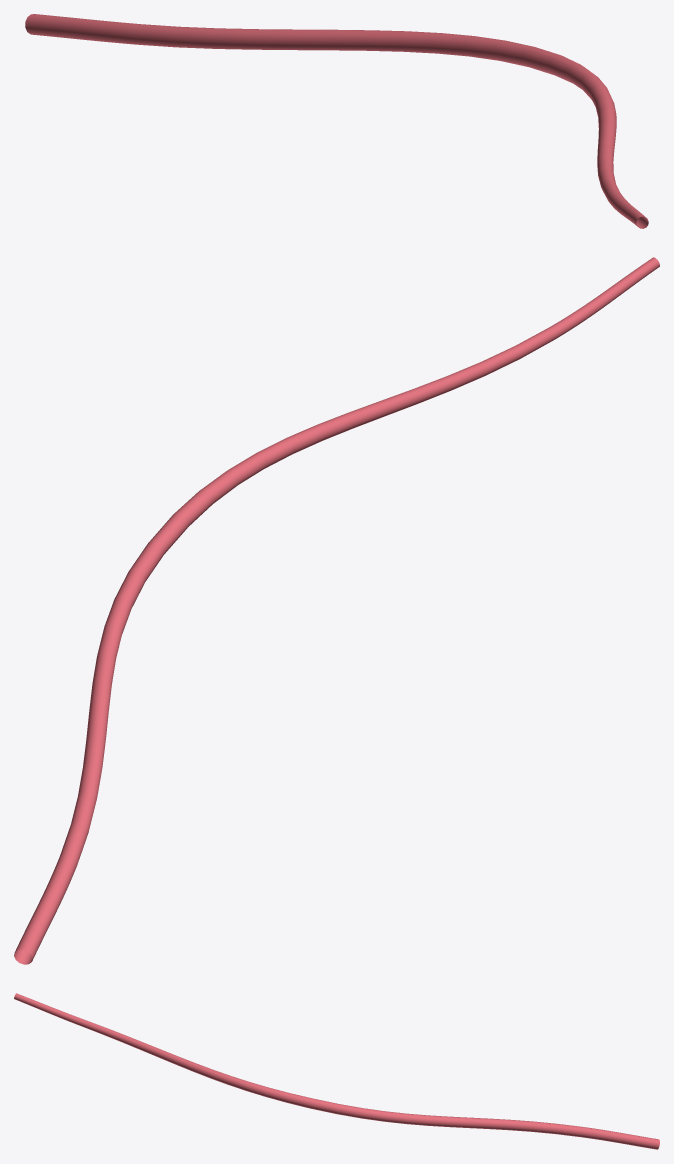
The picture shows the model from 3 angles, top to bottom: view 1: azimuth 30°, elevation 25°; view 2: azimuth 150°, elevation 25°; view 3: azimuth 270°, elevation 25°; orthographic projection. The views are drawn at different scales.
Parts seen in each view (by area): view 1: ZA_f6cd02605fea6eed; view 2: ZA_f6cd02605fea6eed; view 3: ZA_f6cd02605fea6eed.
Part boxes in pixels (<box>): ZA_f6cd02605fea6eed: <box>25,14,648,228</box>; ZA_f6cd02605fea6eed: <box>14,257,659,964</box>; ZA_f6cd02605fea6eed: <box>14,993,659,1149</box>.
Size of the model in its own units: 0.0124 by 0.0154 by 0.0611.
